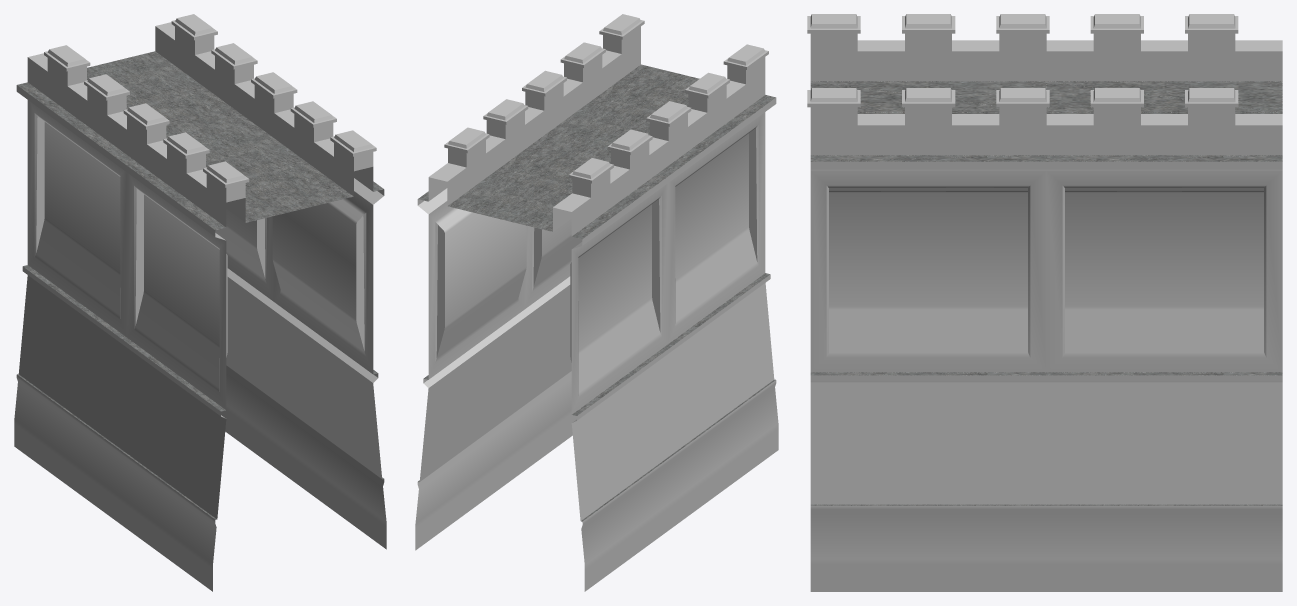
The model's file is CastleWall_Wall.fbx.
3 renders of one model, left to right at view 1: azimuth 30°, elevation 25°; view 2: azimuth 150°, elevation 25°; view 3: azimuth 270°, elevation 25°, orthographic. The views are drawn at different scales.
Parts seen in each view (by area): view 1: CastleWall_Wall; view 2: CastleWall_Wall; view 3: CastleWall_Wall.
Part boxes in pixels (left/top/right/bottom): CastleWall_Wall: left=14, top=14, right=386, bottom=591; CastleWall_Wall: left=415, top=14, right=778, bottom=591; CastleWall_Wall: left=807, top=14, right=1282, bottom=591.
Bounding box in the file's own units: 548 × 1233 × 1093.
